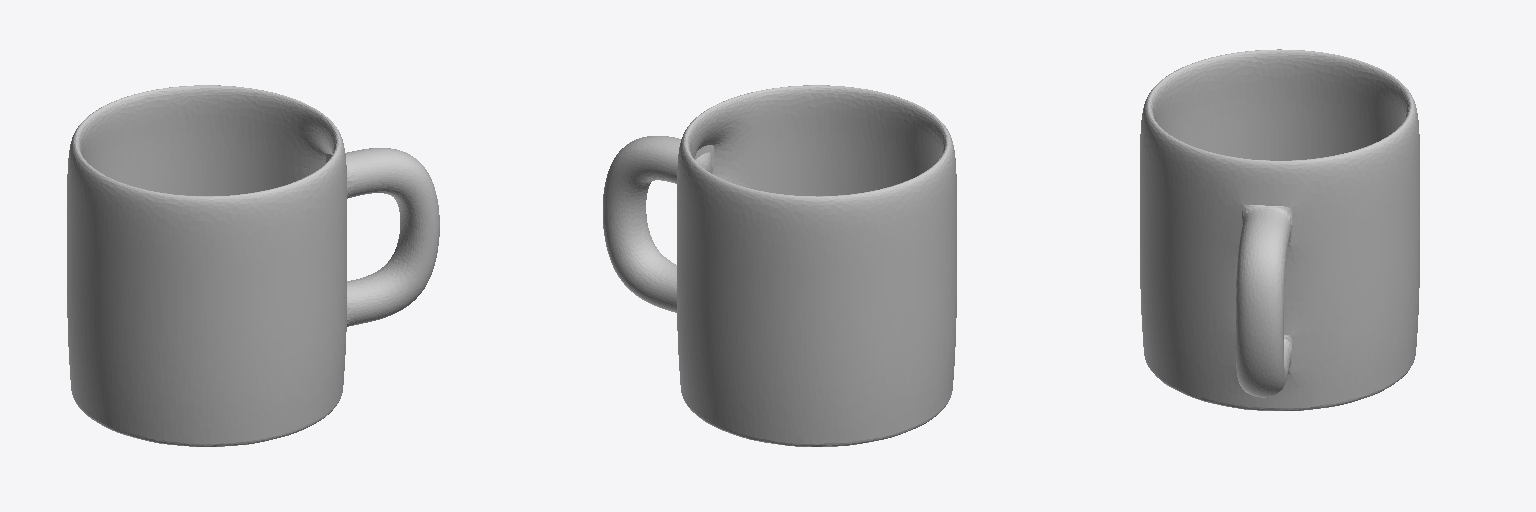
Rendered from mug_small_tri.obj.
The picture shows the model from 3 angles: view 1: azimuth 30°, elevation 25°; view 2: azimuth 150°, elevation 25°; view 3: azimuth 270°, elevation 25°; orthographic projection.
Parts seen in each view (by area): view 1: mug_small; view 2: mug_small; view 3: mug_small.
Part boxes in pixels (bbox=[...]): mug_small: bbox=[67, 85, 439, 446]; mug_small: bbox=[603, 85, 956, 446]; mug_small: bbox=[1140, 49, 1419, 410].
Size of the model in its own units: 2.78 by 1.98 by 1.98.